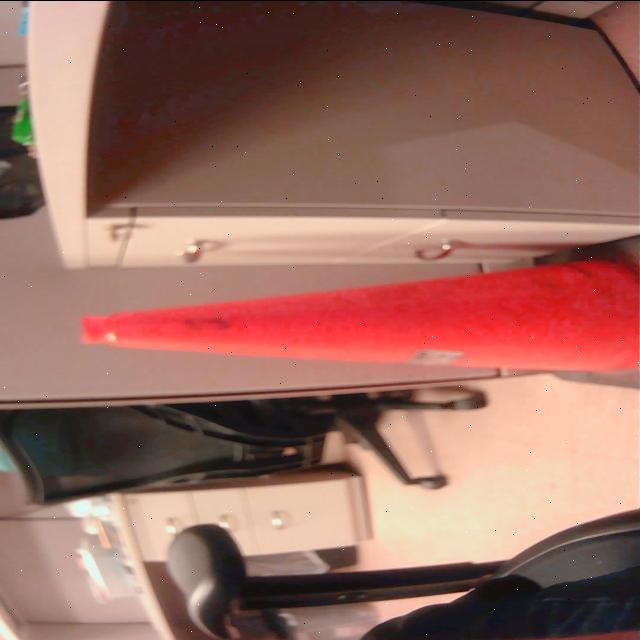traffic cone: (77, 228, 640, 397)
